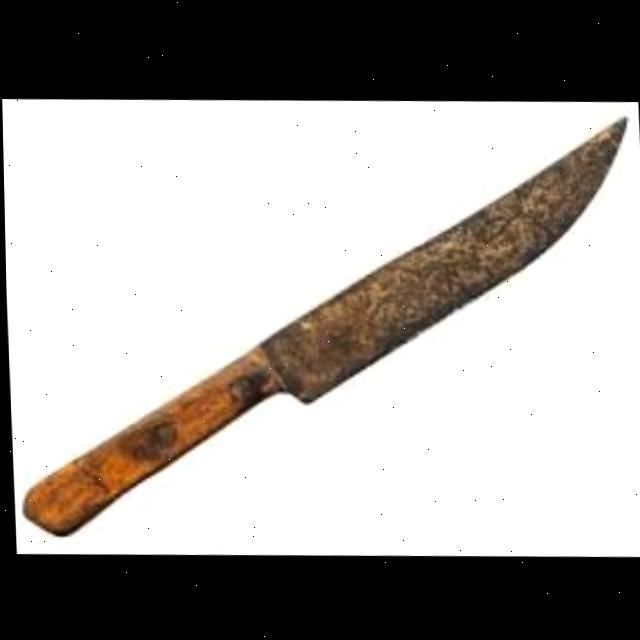knife: (6, 100, 640, 546)
